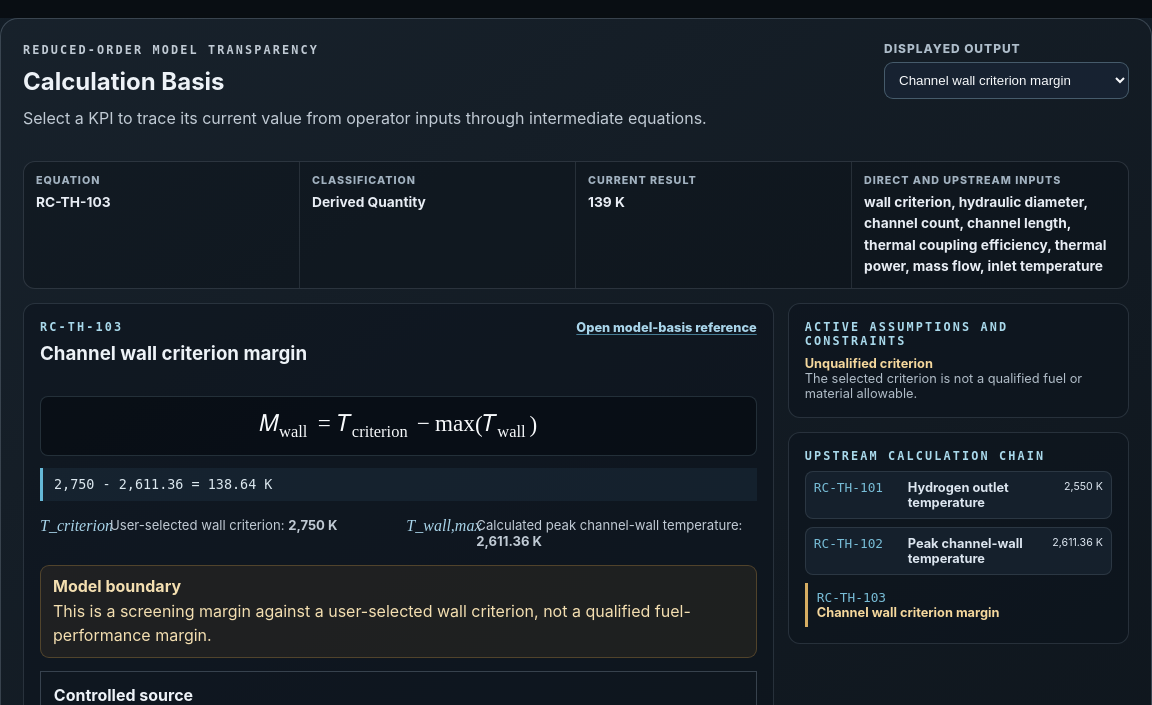
CalculationBasisInspector › shows MathML, substitutions, limitations, and selectable output traces
Expected: the heading "Calculation Basis" is shown, [23, 67, 224, 96]
Expected: the element named "Channel wall criterion margin" is shown, [259, 410, 537, 441]
Select "Pressure drop" in the dropdown named "Displayed calculation output" at (1006, 80), box [884, 62, 1129, 99]
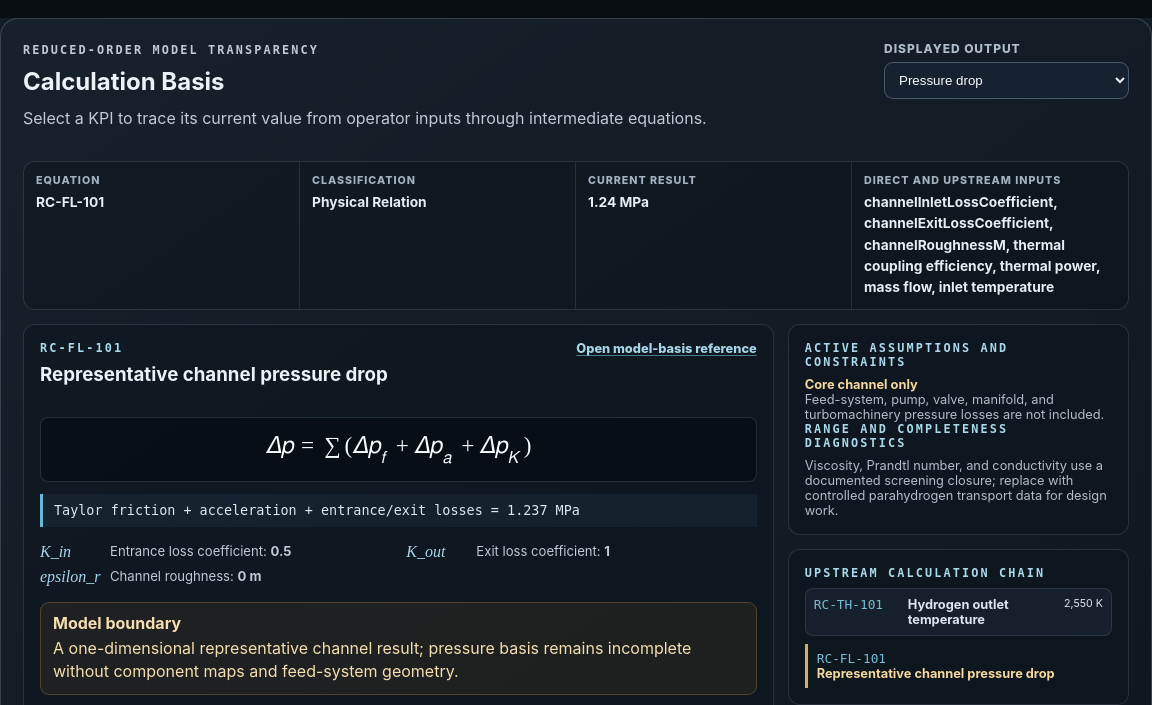
Result: the heading "Representative channel pressure drop" is shown at [40, 364, 388, 386]
Result: the text "Physical Relation" is shown at [312, 194, 427, 210]
